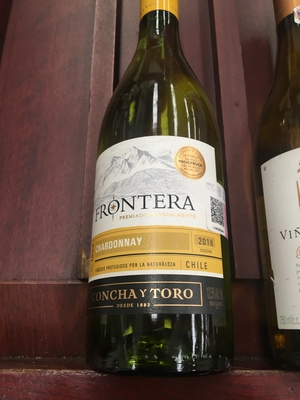frontera chardonnay: (92, 11, 227, 400)
